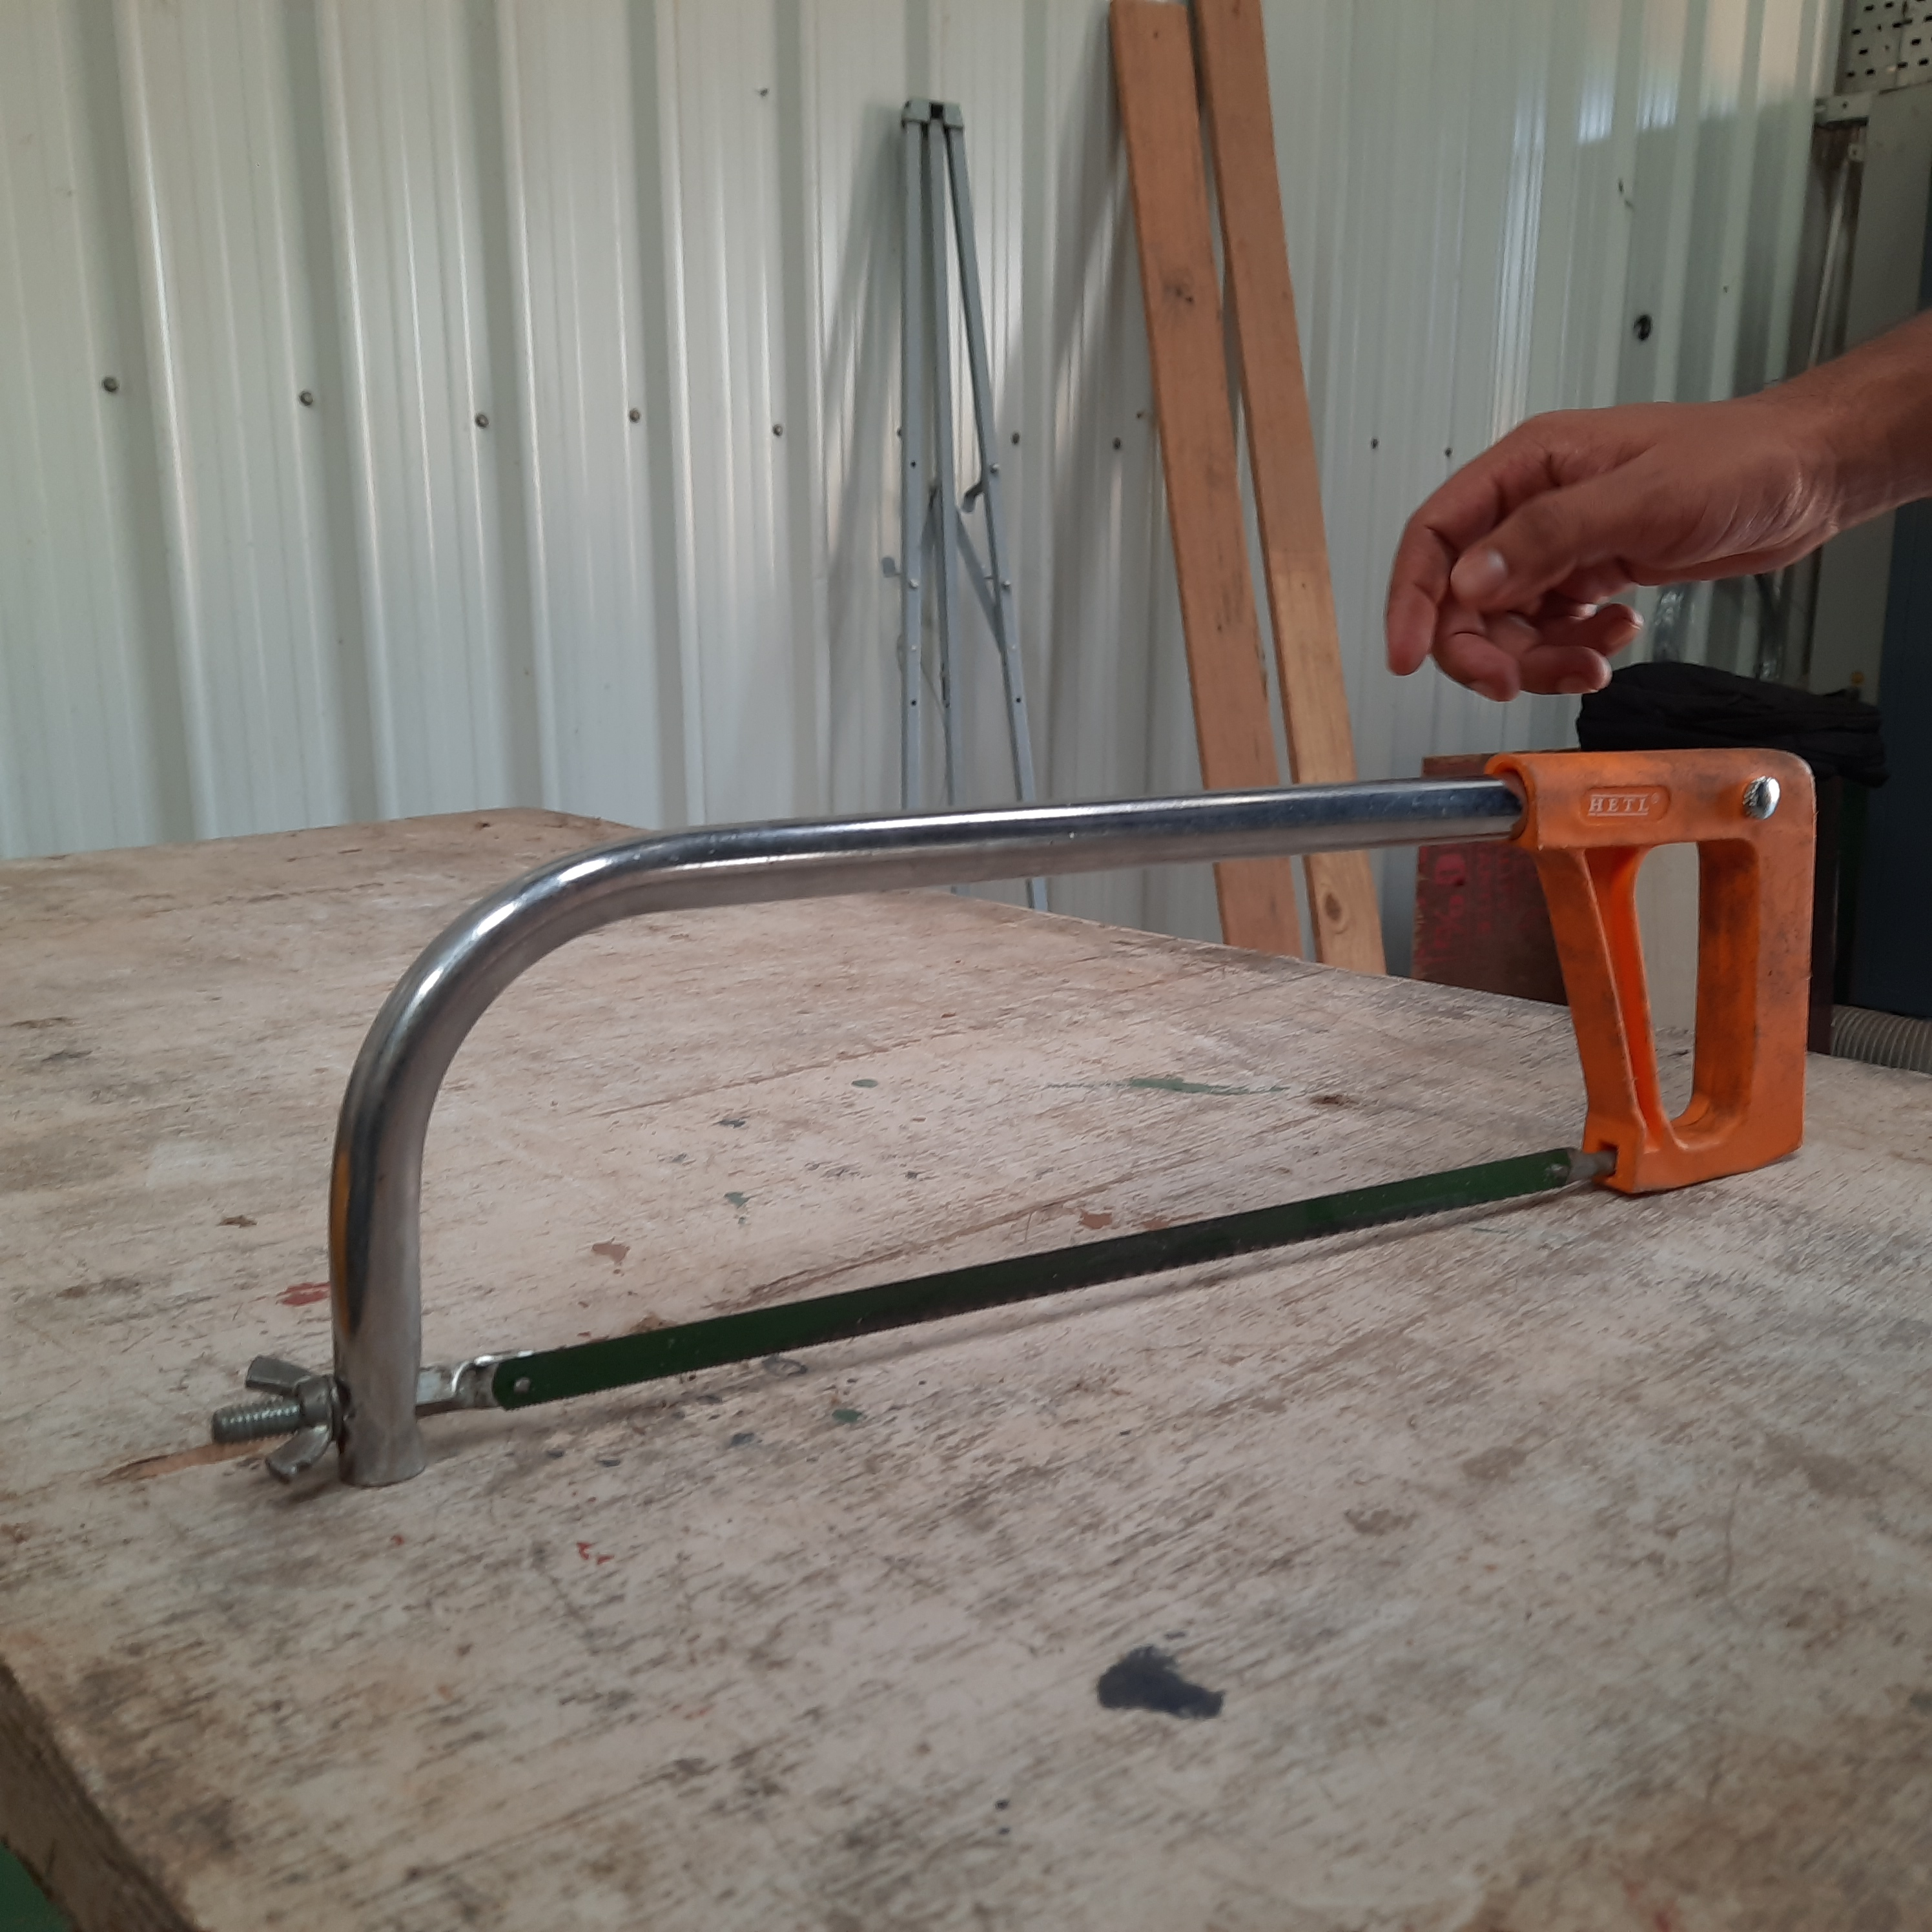Hexaframe: (239, 755, 1829, 1410)
